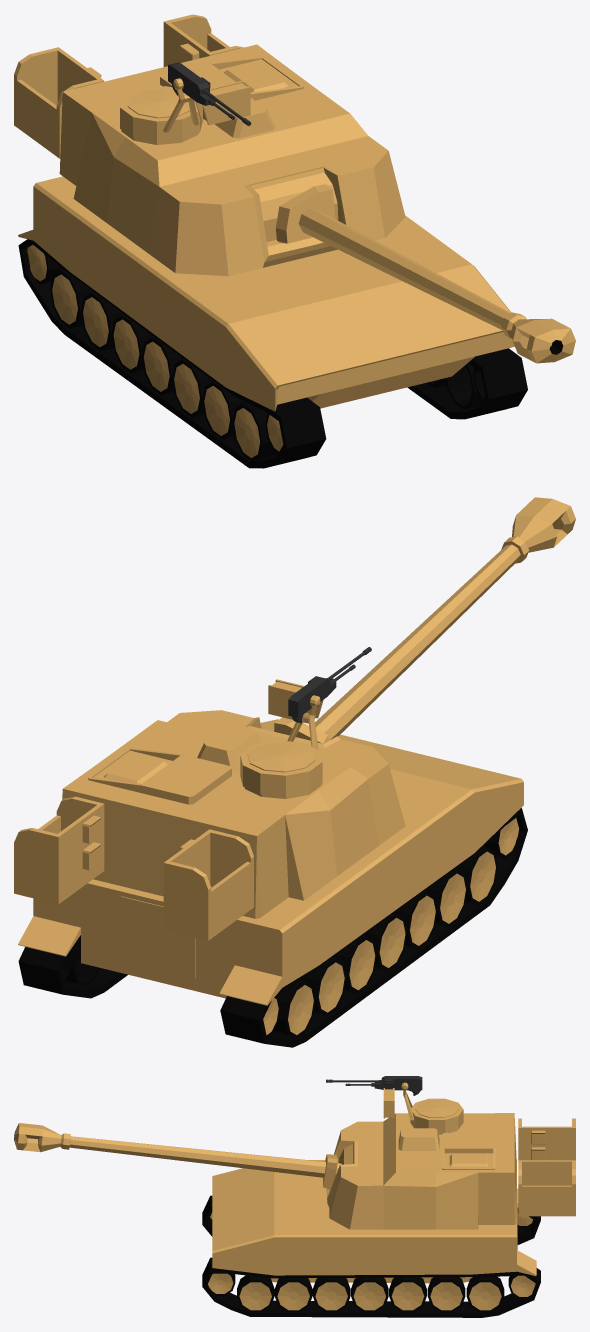
The picture shows the model from 3 angles, top to bottom: view 1: azimuth 30°, elevation 25°; view 2: azimuth 150°, elevation 25°; view 3: azimuth 270°, elevation 25°; orthographic projection. The views are drawn at different scales.
Parts seen in each view (by area): view 1: Plane.017, Plane.015, Cube.009, Plane.016, Cube.010, Plane.019, Cube.011; view 2: Plane.017, Plane.015, Cube.009, Plane.016, Plane.018, Cube.010, Plane.019; view 3: Plane.017, Plane.015, Cube.009, Plane.016, Cube.010, Plane.019.
Boxes of the visible parts, left/top/right/bottom form: Plane.017: left=14, top=14, right=405, bottom=276; Plane.015: left=18, top=176, right=514, bottom=411; Cube.009: left=18, top=239, right=527, bottom=468; Plane.016: left=254, top=172, right=575, bottom=363; Cube.010: left=168, top=62, right=251, bottom=125; Plane.019: left=127, top=88, right=194, bottom=118; Cube.011: left=163, top=74, right=198, bottom=132; Plane.017: left=14, top=710, right=405, bottom=940; Plane.015: left=18, top=719, right=523, bottom=1005; Cube.009: left=18, top=808, right=527, bottom=1047; Plane.016: left=274, top=497, right=575, bottom=743; Plane.018: left=119, top=896, right=195, bottom=979; Cube.010: left=268, top=647, right=371, bottom=723; Plane.019: left=247, top=742, right=315, bottom=772; Plane.017: left=326, top=1098, right=575, bottom=1229; Plane.015: left=212, top=1160, right=536, bottom=1283; Cube.009: left=202, top=1195, right=540, bottom=1317; Plane.016: left=14, top=1123, right=353, bottom=1189; Cube.010: left=326, top=1076, right=422, bottom=1118; Plane.019: left=415, top=1100, right=458, bottom=1117.
Bounding box in the file's own units: 357 × 402 × 1108.
